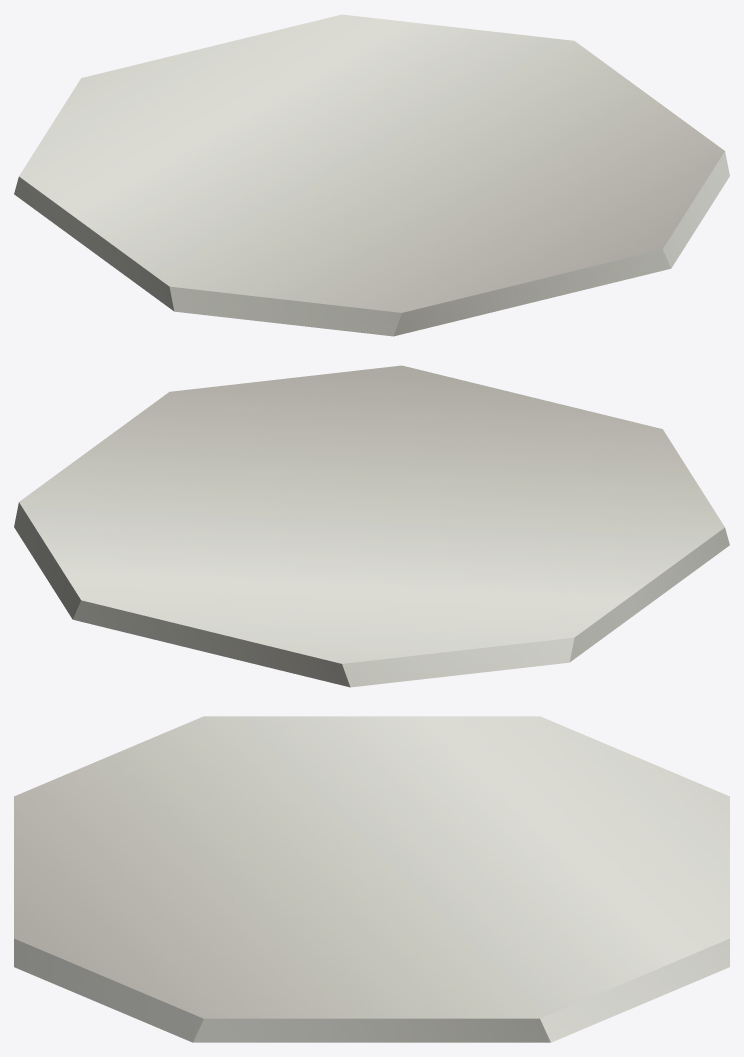
File: BaseFloorTextured.fbx
3 views of the same model, one above another, from view 1: azimuth 30°, elevation 25°; view 2: azimuth 150°, elevation 25°; view 3: azimuth 270°, elevation 25° (orthographic). The views are drawn at different scales.
Parts seen in each view (by area): view 1: BaseFloor; view 2: BaseFloor; view 3: BaseFloor.
Part boxes in pixels (box(x1,y1,x2,y2)): BaseFloor: box(14, 14, 729, 336); BaseFloor: box(14, 365, 729, 687); BaseFloor: box(14, 716, 729, 1042).
Size of the model in its own units: 800 by 29.56 by 800.
Materials: 1 (1 with a texture image).
